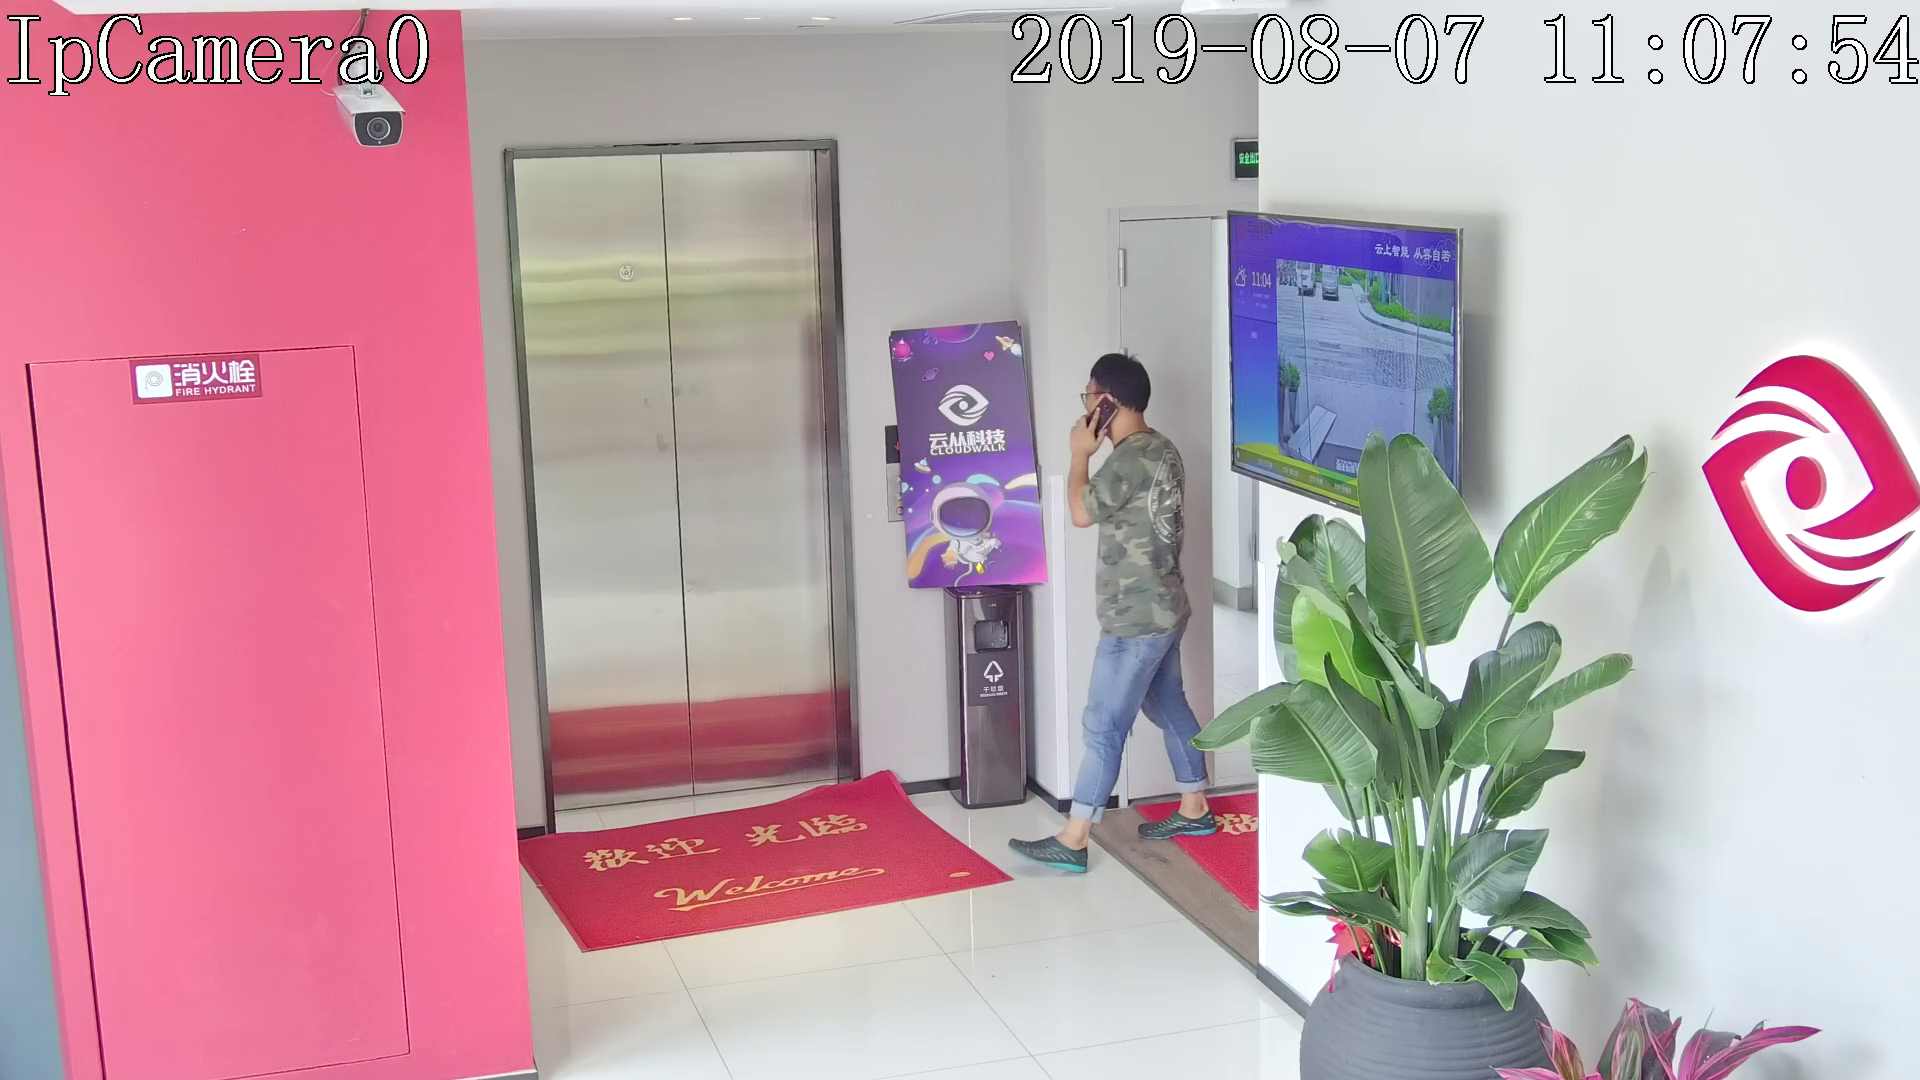bill: (889, 319, 1048, 592)
